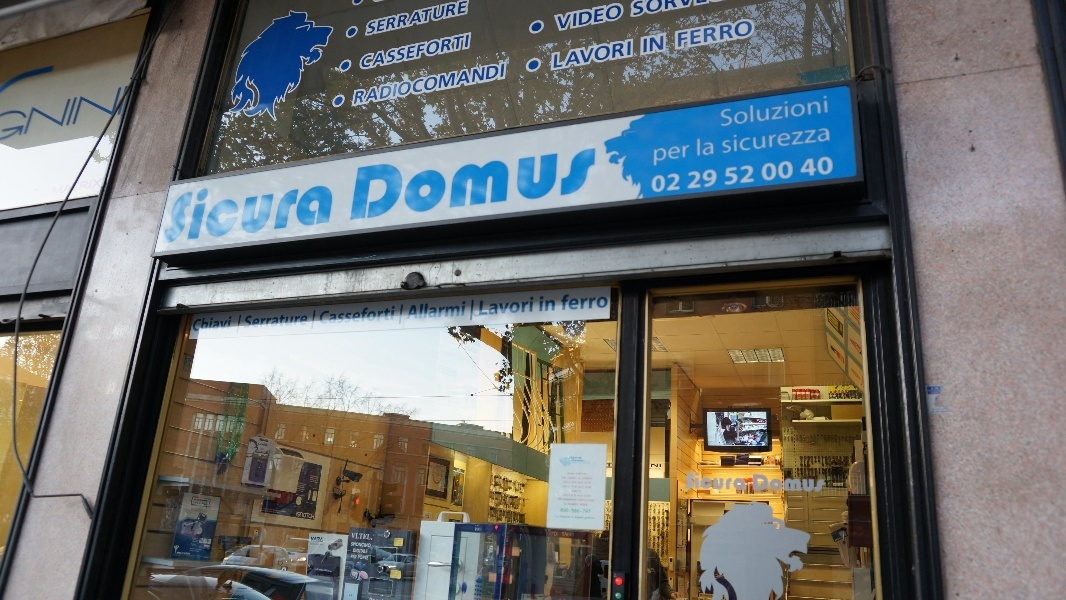text: (369, 150, 384, 222), (385, 150, 400, 222), (401, 150, 416, 222), (417, 150, 432, 222), (433, 150, 448, 222), (449, 150, 464, 222), (465, 150, 480, 222), (481, 150, 496, 222), (497, 150, 512, 222), (513, 150, 528, 222), (529, 150, 544, 222), (545, 150, 560, 222), (561, 150, 576, 222), (577, 150, 592, 222), (561, 457, 576, 522), (577, 457, 592, 522), (321, 184, 337, 244), (193, 184, 208, 244), (209, 184, 224, 244), (225, 184, 240, 244), (241, 184, 256, 244), (257, 184, 272, 244), (273, 184, 288, 244), (289, 184, 304, 244), (305, 184, 320, 244), (17, 84, 32, 141), (33, 84, 48, 141), (49, 84, 64, 141), (65, 84, 80, 141), (81, 84, 96, 141), (97, 84, 112, 141), (113, 84, 128, 141), (178, 184, 192, 244), (2, 84, 16, 141), (357, 150, 368, 222), (593, 150, 604, 222), (369, 59, 384, 110), (385, 59, 400, 110), (401, 59, 416, 110), (417, 59, 432, 110), (433, 59, 448, 110), (449, 59, 464, 110), (465, 59, 480, 110), (481, 59, 496, 110), (354, 59, 368, 110), (369, 31, 384, 73), (385, 31, 400, 73), (401, 31, 416, 73), (417, 31, 432, 73), (433, 31, 448, 73), (449, 31, 464, 73), (497, 59, 509, 110), (561, 37, 576, 73), (577, 37, 592, 73), (593, 37, 608, 73), (609, 37, 624, 73), (721, 94, 736, 129), (737, 94, 752, 129), (753, 94, 768, 129), (769, 94, 784, 129), (785, 94, 800, 129), (801, 94, 816, 129), (369, 1, 384, 35), (385, 1, 400, 35), (401, 1, 416, 35), (417, 1, 432, 35), (433, 1, 448, 35), (449, 1, 464, 35), (817, 125, 833, 156), (817, 94, 831, 129), (721, 125, 736, 156), (737, 125, 752, 156), (753, 125, 768, 156), (769, 125, 784, 156), (785, 125, 800, 156), (801, 125, 816, 156), (689, 18, 704, 49), (705, 18, 720, 49), (721, 18, 736, 49), (737, 18, 752, 49), (561, 3, 576, 32), (577, 3, 592, 32), (593, 3, 608, 32), (609, 3, 624, 32), (625, 37, 637, 73), (465, 31, 475, 73), (737, 163, 752, 189), (359, 31, 368, 73), (817, 155, 832, 180), (657, 171, 672, 195), (657, 145, 672, 168), (673, 145, 688, 168), (769, 160, 784, 183), (677, 18, 688, 49), (689, 168, 704, 190), (593, 457, 598, 522), (551, 37, 560, 73), (724, 163, 736, 189), (577, 292, 592, 312), (593, 292, 608, 312), (481, 296, 496, 316), (497, 296, 512, 316), (513, 296, 528, 316), (641, 1, 656, 21), (417, 301, 432, 320), (433, 301, 448, 320), (449, 301, 464, 320), (769, 475, 784, 494), (785, 475, 800, 494), (801, 475, 816, 494), (689, 473, 704, 492), (705, 473, 720, 492), (721, 473, 736, 492), (321, 306, 336, 325), (337, 306, 352, 325), (353, 306, 368, 325), (369, 306, 384, 325), (562, 292, 576, 312), (805, 155, 816, 180), (754, 475, 768, 494), (705, 140, 717, 161), (705, 168, 716, 190), (673, 171, 683, 195), (209, 316, 224, 332), (785, 160, 795, 183), (257, 313, 272, 328), (273, 313, 288, 328), (289, 313, 304, 328), (193, 538, 207, 554), (194, 316, 208, 332), (629, 1, 640, 21), (385, 306, 396, 325), (737, 473, 747, 492), (545, 296, 556, 313), (554, 3, 560, 32), (817, 475, 826, 494), (311, 475, 320, 492), (246, 313, 256, 328), (529, 296, 536, 316), (657, 1, 664, 21), (558, 457, 560, 522), (225, 316, 233, 332), (698, 140, 704, 161), (833, 155, 838, 180), (353, 533, 368, 541), (545, 529, 560, 537), (723, 1, 736, 10), (194, 500, 208, 508), (297, 483, 304, 498), (411, 301, 416, 320), (652, 145, 656, 168), (764, 160, 768, 183), (353, 542, 368, 548), (562, 531, 576, 537), (753, 163, 756, 189), (529, 528, 542, 534), (353, 549, 368, 554), (653, 171, 656, 195), (718, 94, 720, 129), (305, 512, 315, 519), (689, 145, 692, 168), (465, 1, 467, 35), (321, 568, 333, 573), (311, 537, 320, 543), (541, 296, 544, 313), (297, 512, 304, 519), (520, 528, 528, 534), (305, 313, 308, 328), (609, 292, 611, 312), (358, 556, 368, 560), (465, 301, 467, 320), (369, 533, 373, 541), (753, 18, 754, 49), (625, 3, 626, 32), (315, 568, 320, 573), (687, 473, 688, 492), (321, 537, 324, 543), (191, 538, 192, 554), (353, 555, 357, 559), (305, 483, 306, 498), (369, 542, 371, 548), (209, 500, 210, 508), (351, 533, 352, 541), (351, 542, 352, 548), (351, 555, 352, 559)
